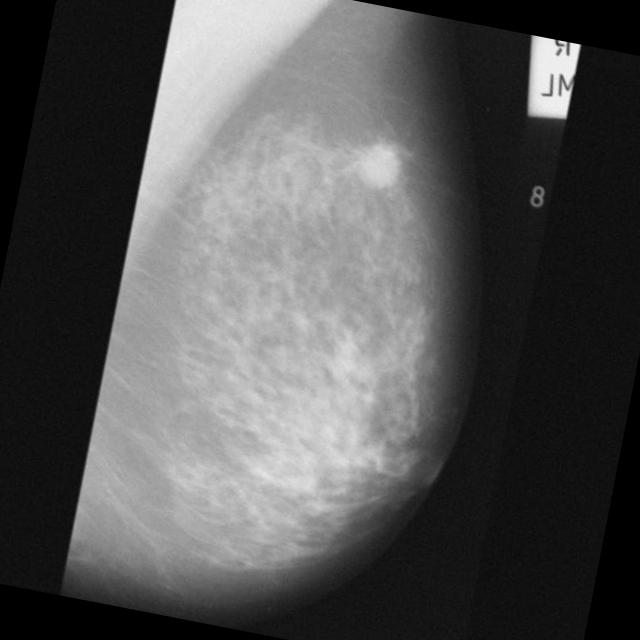SPIC: (352, 138, 406, 194)
